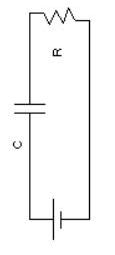Capacitor: (9, 90, 56, 131)
